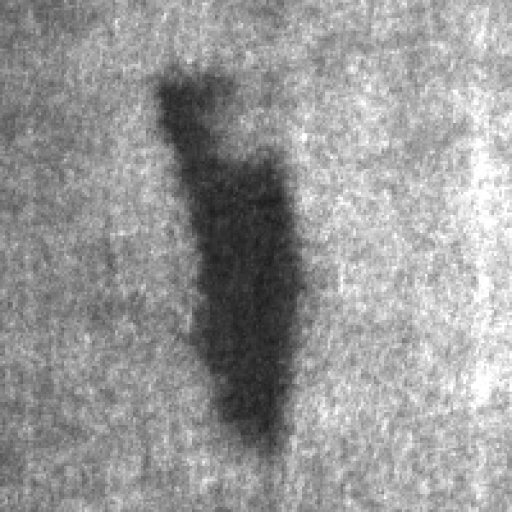patches: (139, 54, 323, 467)
